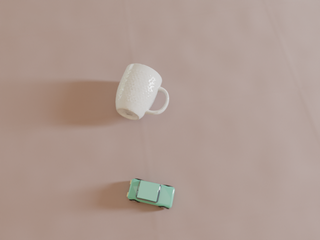cup: (116, 64, 169, 120)
toy_car: (127, 179, 175, 209)
